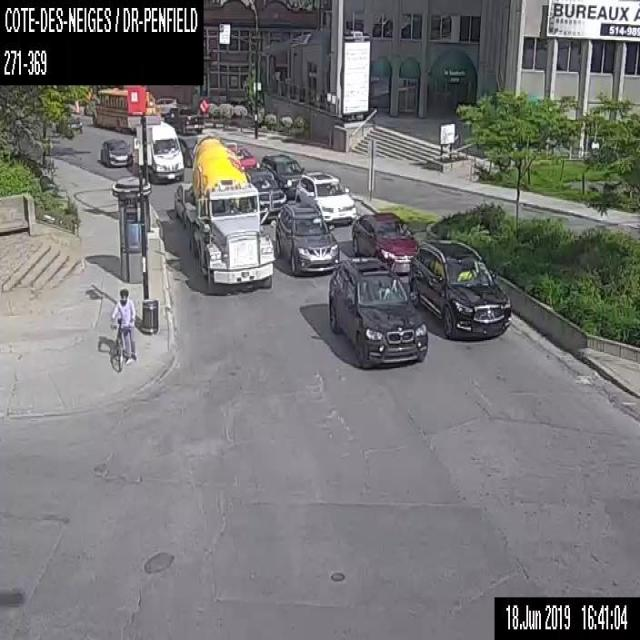bus: (92, 86, 155, 131)
pedestrian: (110, 288, 136, 370)
vehicle: (185, 135, 274, 292), (329, 257, 427, 368), (408, 239, 512, 340), (275, 201, 339, 275), (352, 211, 419, 274), (294, 170, 356, 225), (147, 119, 184, 182), (244, 167, 286, 222), (260, 154, 304, 198), (164, 106, 204, 134), (173, 180, 196, 226), (100, 138, 132, 166), (228, 144, 259, 169), (178, 135, 197, 166), (155, 95, 177, 116)
